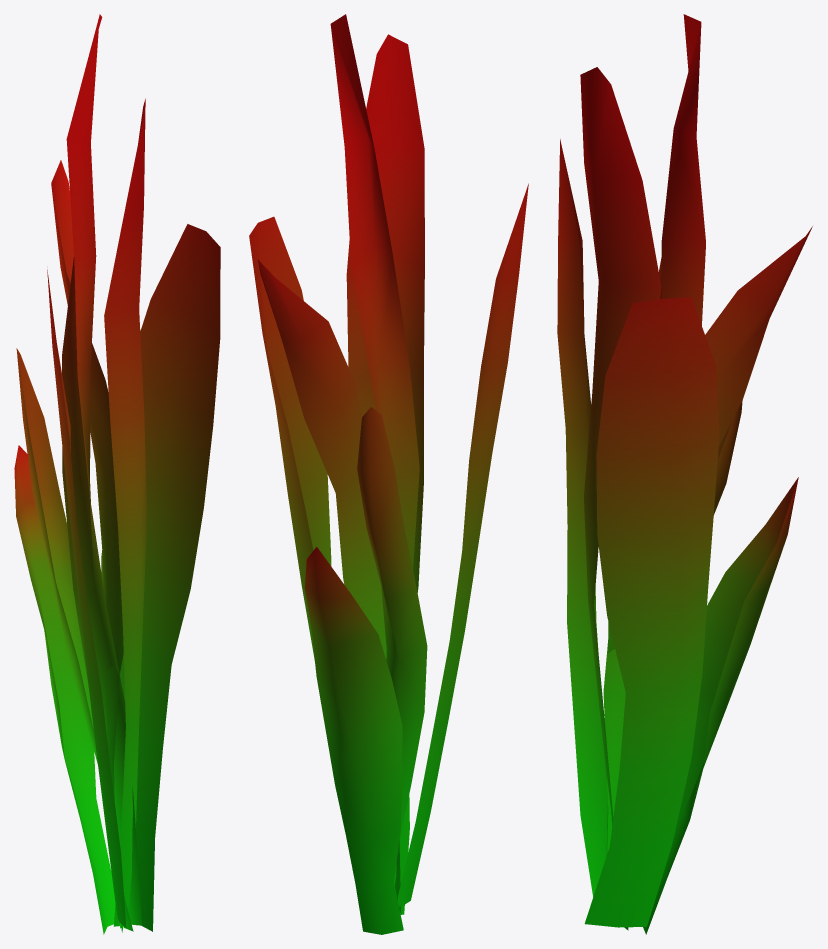
File: Snake Plant_LOD1_Var6_sgtmY.fbx
3 views of the same model, side by side, from view 1: azimuth 30°, elevation 25°; view 2: azimuth 150°, elevation 25°; view 3: azimuth 270°, elevation 25° (orthographic). The views are drawn at different scales.
Visible parts, largest first — view 1: _8402_Var6_LOD1; view 2: _8402_Var6_LOD1; view 3: _8402_Var6_LOD1.
Part boxes in pixels (x1,y1,x2,y2): _8402_Var6_LOD1: [14, 14, 220, 934]; _8402_Var6_LOD1: [249, 14, 528, 934]; _8402_Var6_LOD1: [557, 14, 812, 934].
Bounding box in the file's own units: 30.41 × 124 × 31.23.
